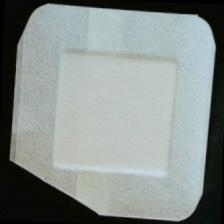Cut: (6, 2, 221, 224)
